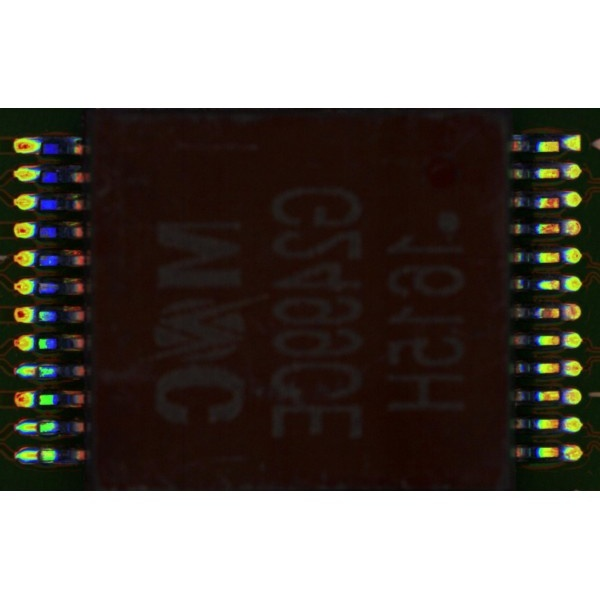Bad_podu: (24, 423, 46, 431), (25, 368, 49, 375), (28, 452, 51, 459)
